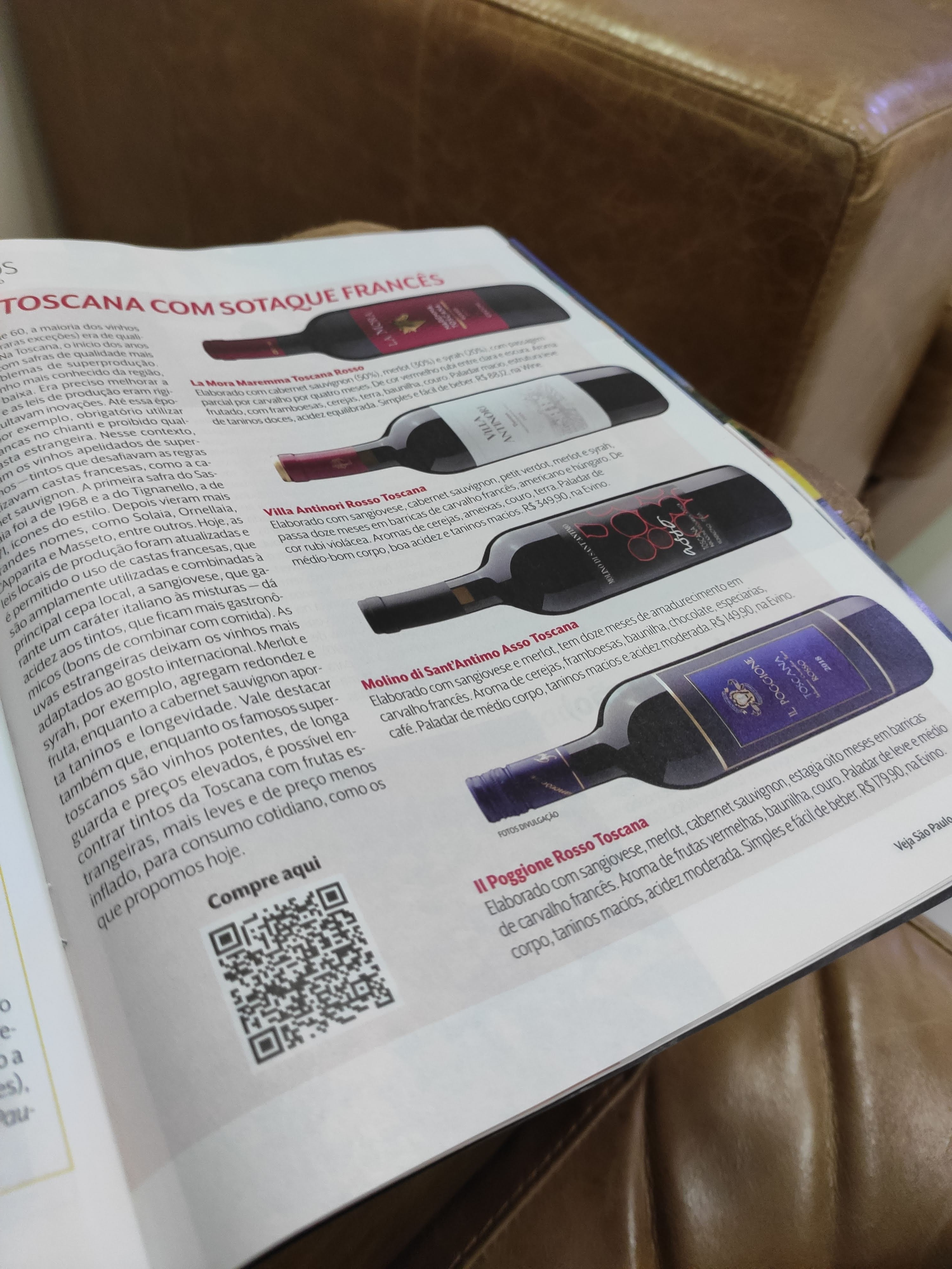QR-CODE: (208, 881, 395, 1065)
